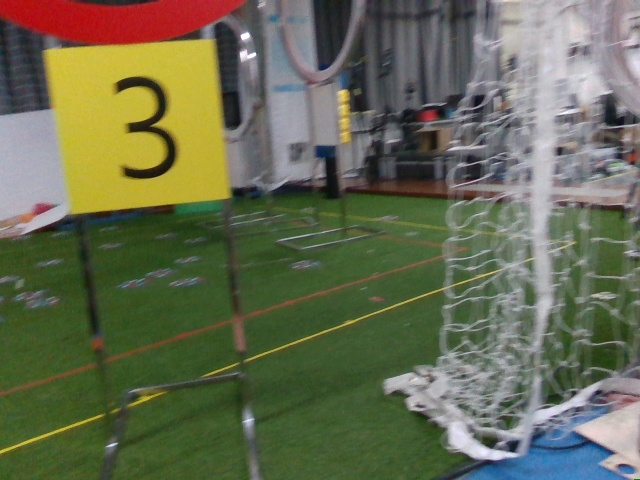target: (48, 44, 221, 200)
